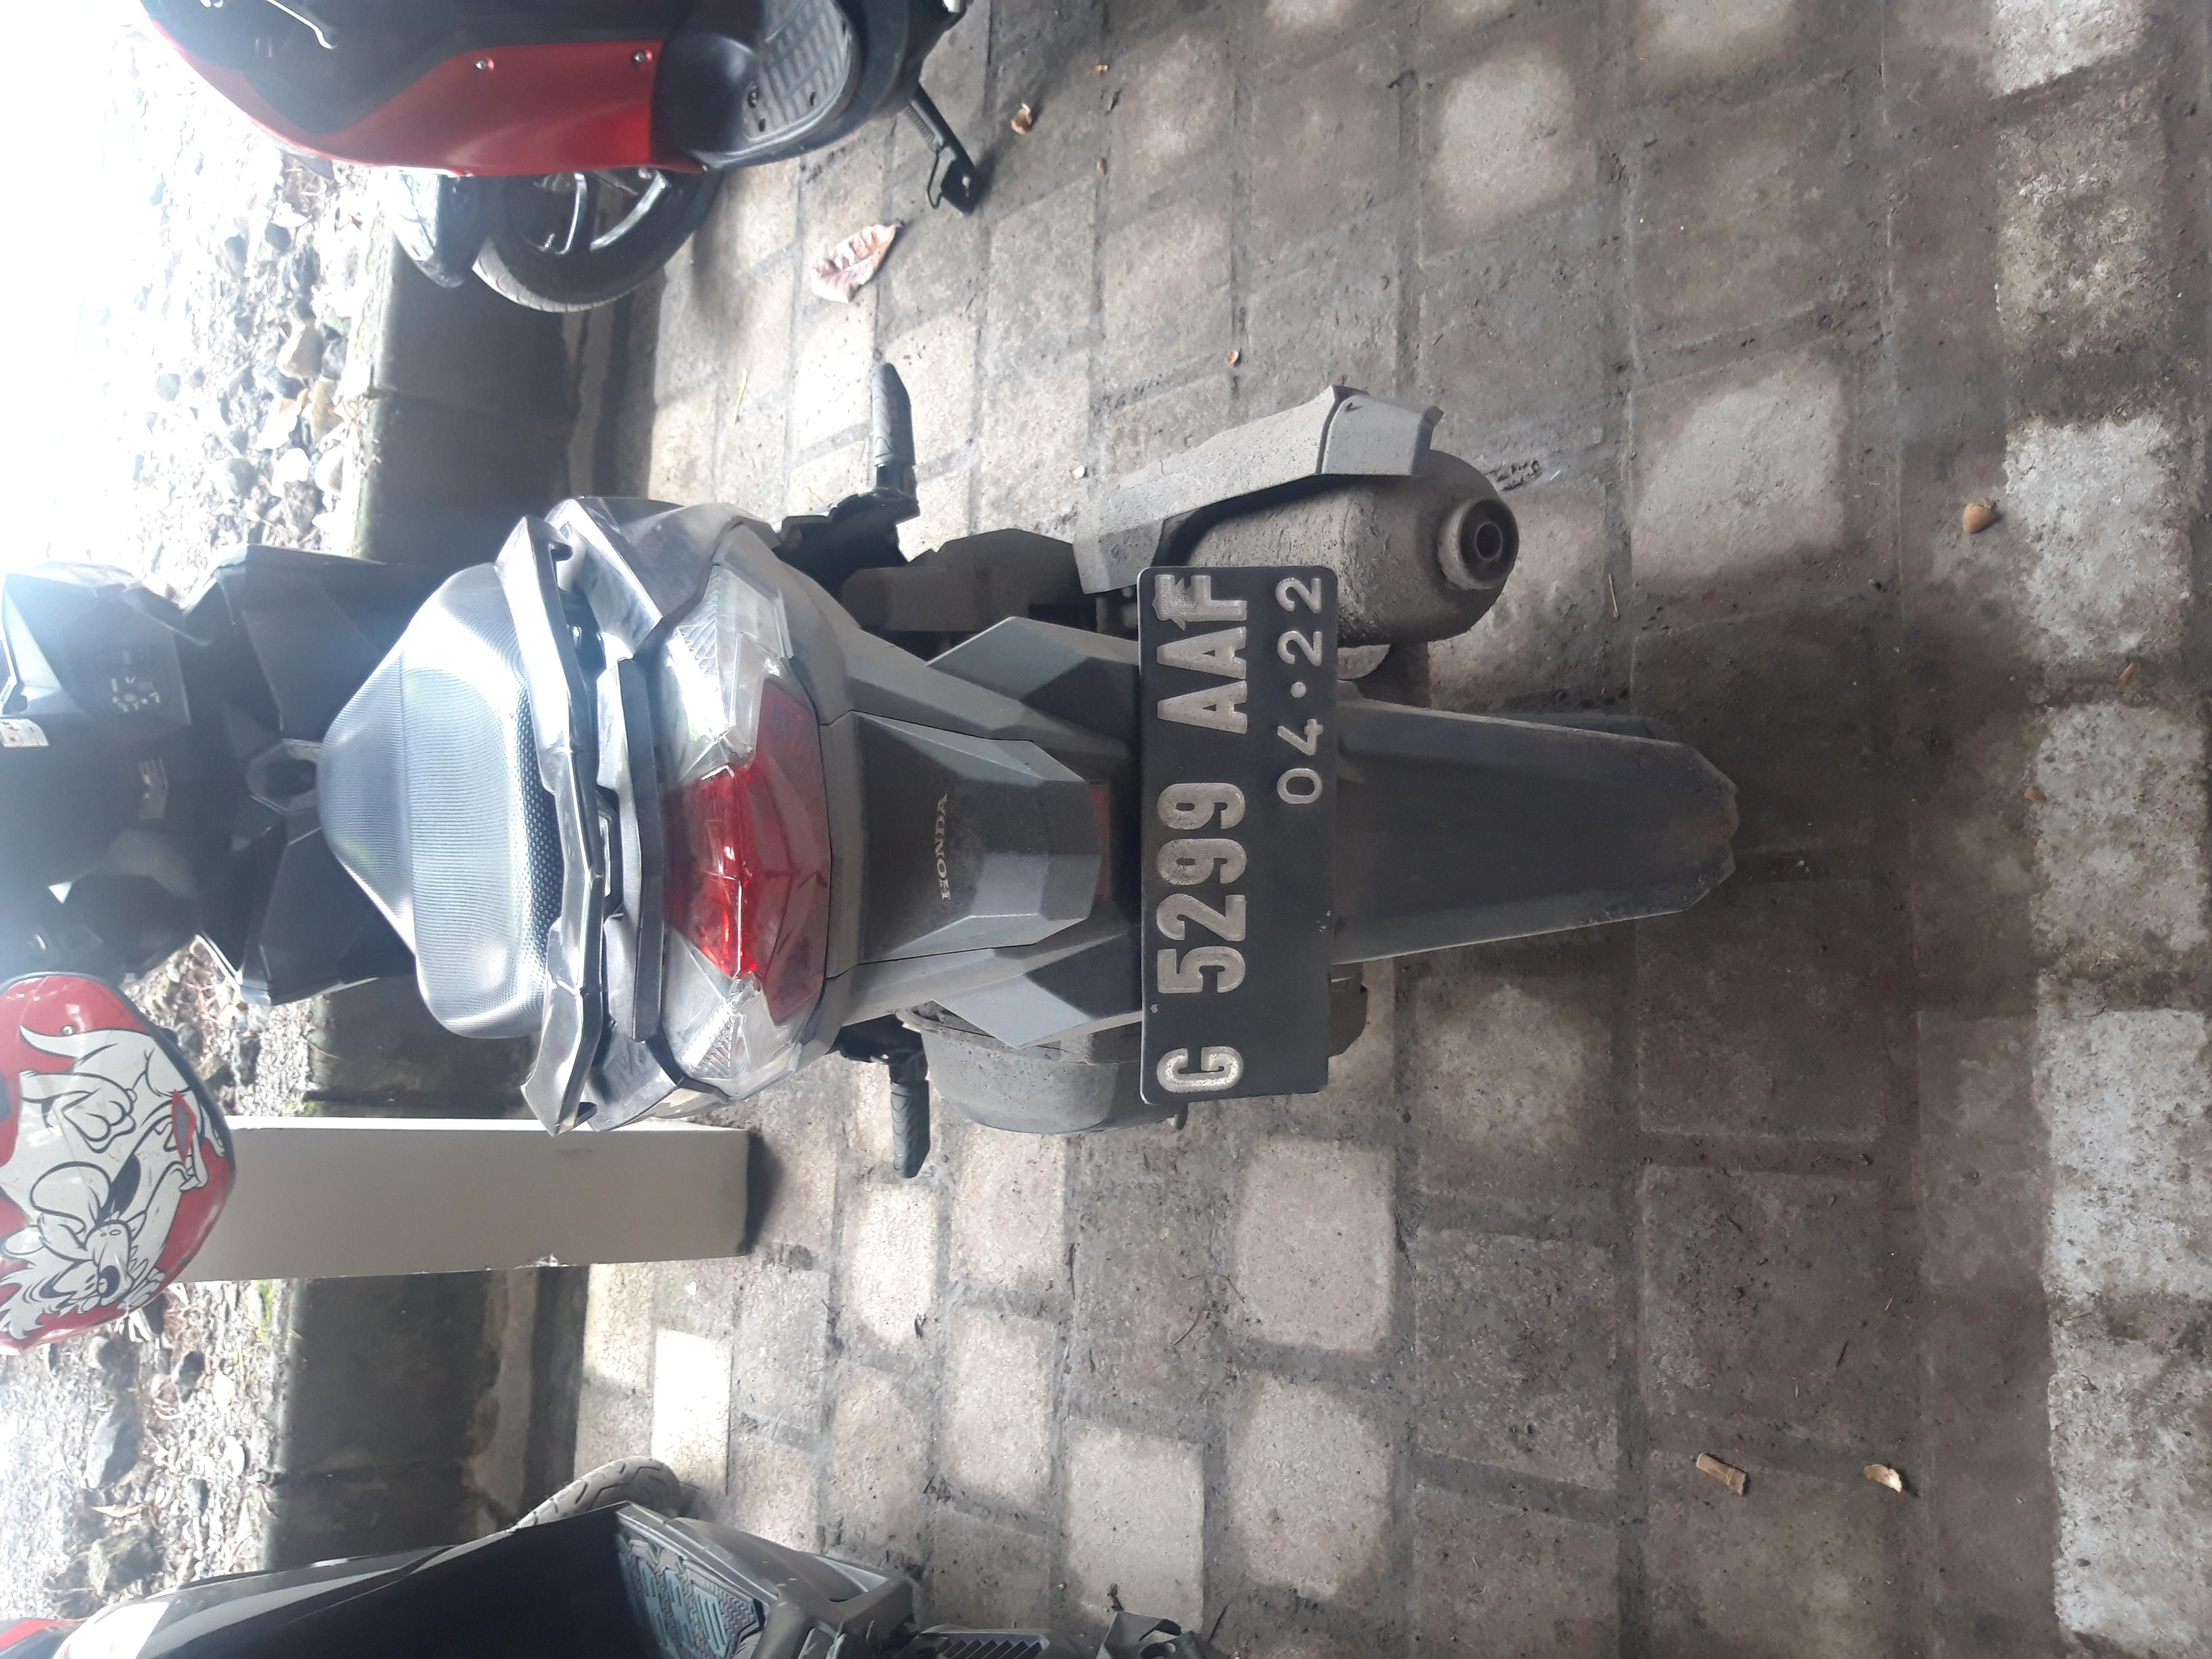plat: (737, 852, 1463, 1004)
